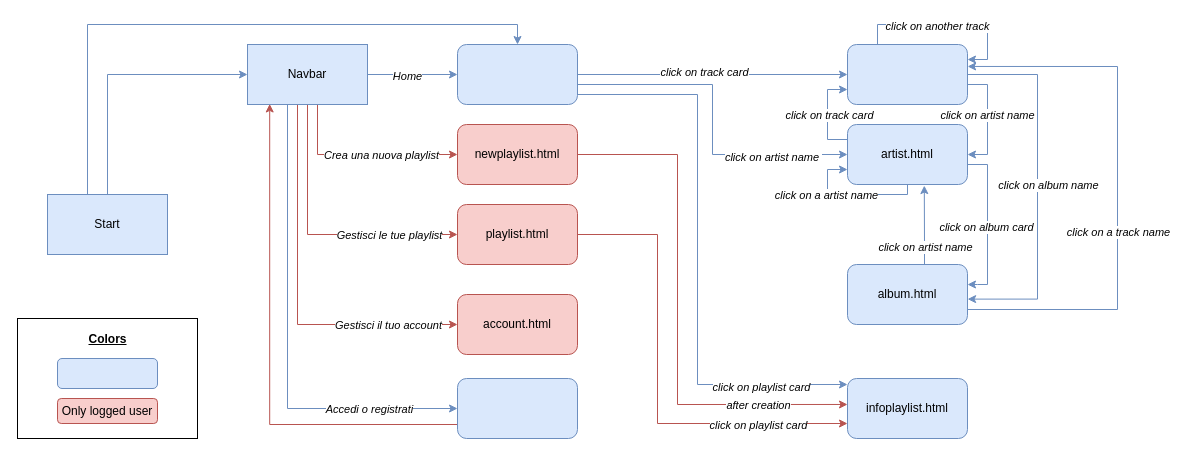
Some shapes in this 1187 by 456 pixel diagram are drawn without their labels. Here are the shapes that lost their labels. From the top down, the box of each, then its label:
(456, 44, 578, 104): index.html
(846, 44, 968, 104): track.html
(56, 358, 158, 388): All the users
(456, 378, 578, 438): login.html
